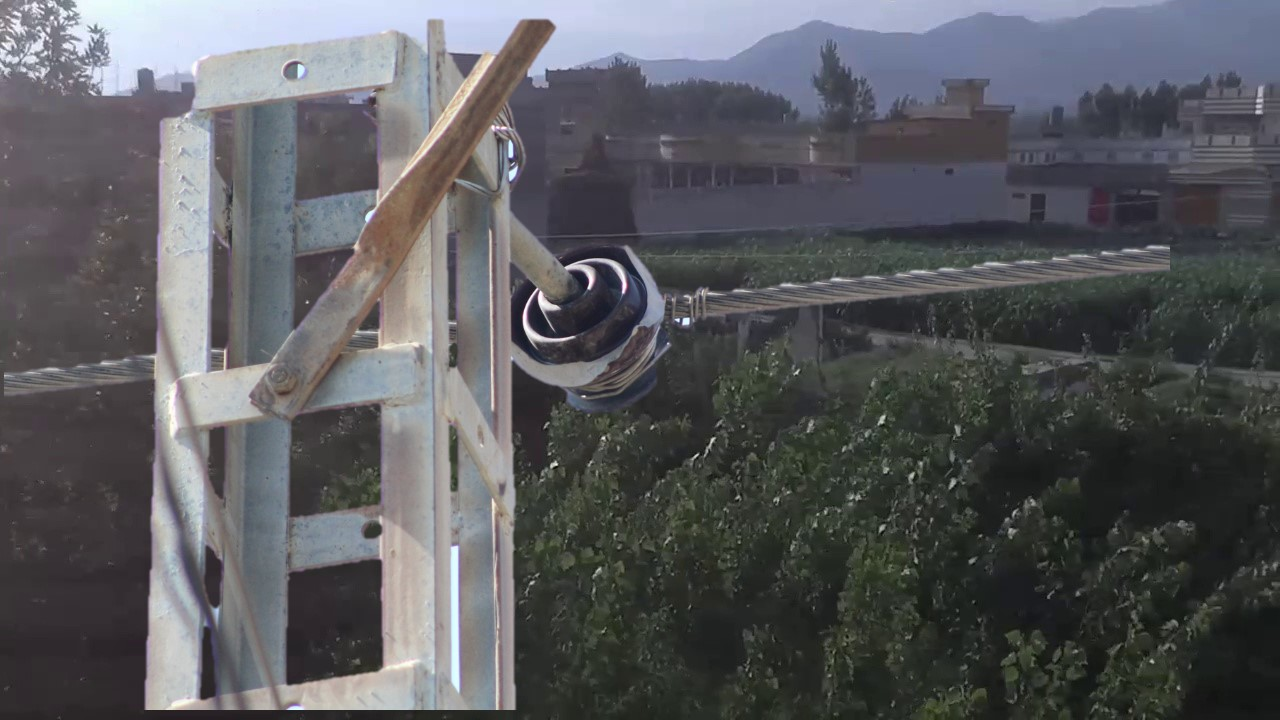defect_pin: (505, 236, 677, 426)
